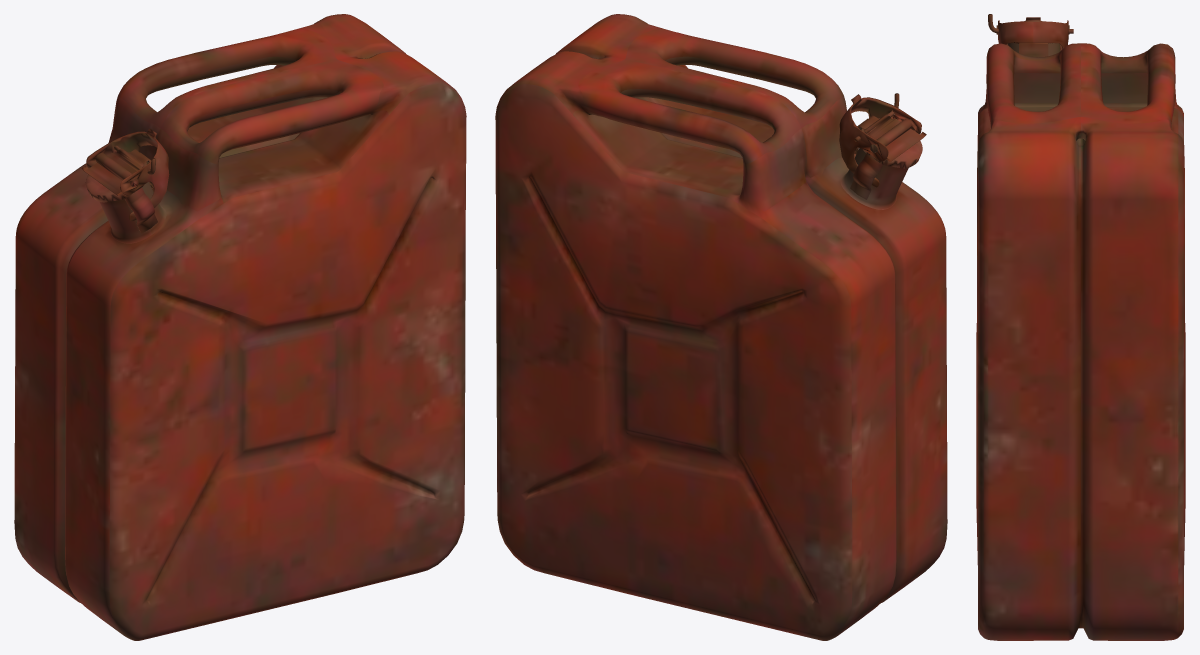
The model's file is metal_jerrycan.glb.
The picture shows the model from 3 angles, left to right: view 1: azimuth 30°, elevation 25°; view 2: azimuth 150°, elevation 25°; view 3: azimuth 270°, elevation 25°; orthographic projection. The views are drawn at different scales.
Visible parts, largest first — view 1: metal_jerrycan; view 2: metal_jerrycan; view 3: metal_jerrycan.
Part boxes in pixels (x1,y1,x2,y2): metal_jerrycan: (14,14,466,640); metal_jerrycan: (495,14,947,640); metal_jerrycan: (976,14,1185,640).
Size of the model in its own units: 0.3503 by 0.4552 by 0.1718.
Materials: 1 (1 with a texture image).
